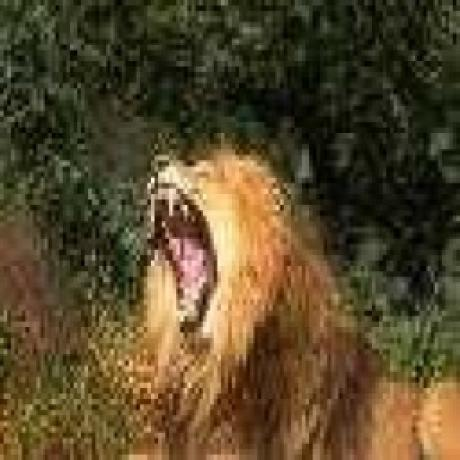Lion: (142, 145, 460, 460)
